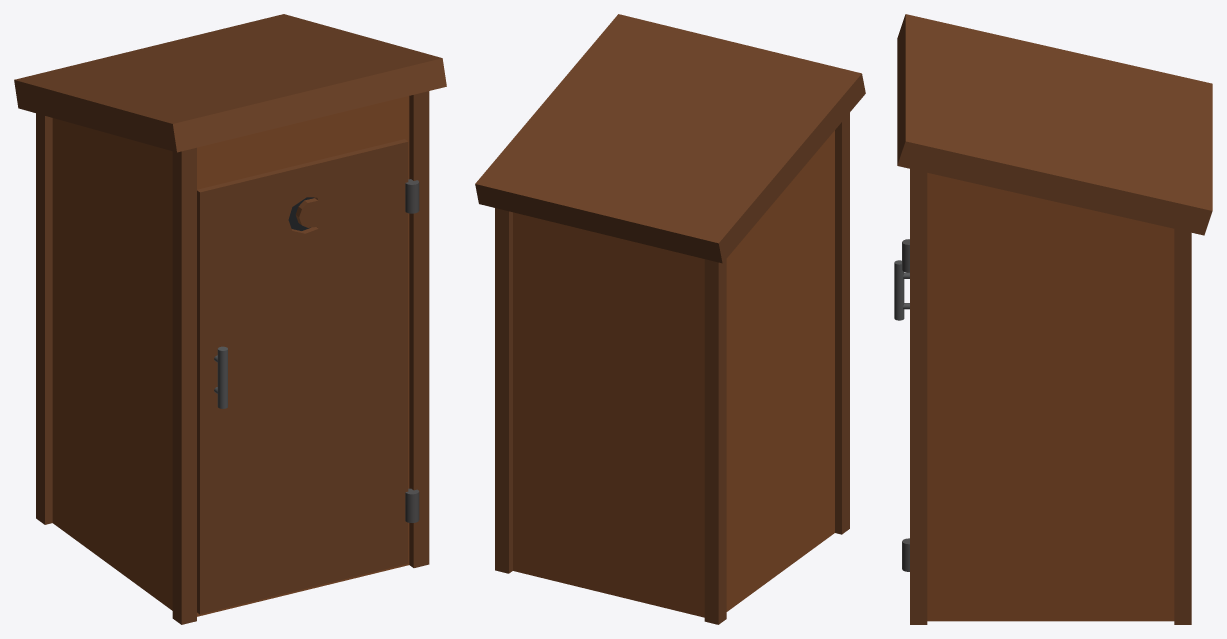
File: PublicToilet_1.fbx
The picture shows the model from 3 angles, left to right: view 1: azimuth 30°, elevation 25°; view 2: azimuth 150°, elevation 25°; view 3: azimuth 270°, elevation 25°; orthographic projection. The views are drawn at different scales.
Visible parts, largest first — view 1: PublicToilet_1; view 2: PublicToilet_1; view 3: PublicToilet_1.
Part boxes in pixels (x1=…): PublicToilet_1: x1=14, y1=14, x2=446, y2=624; PublicToilet_1: x1=475, y1=14, x2=865, y2=624; PublicToilet_1: x1=894, y1=14, x2=1212, y2=624.
Size of the model in its own units: 132 by 236 by 139.
